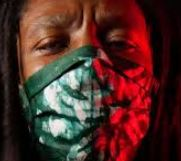with_facemask: (34, 66, 147, 146)
